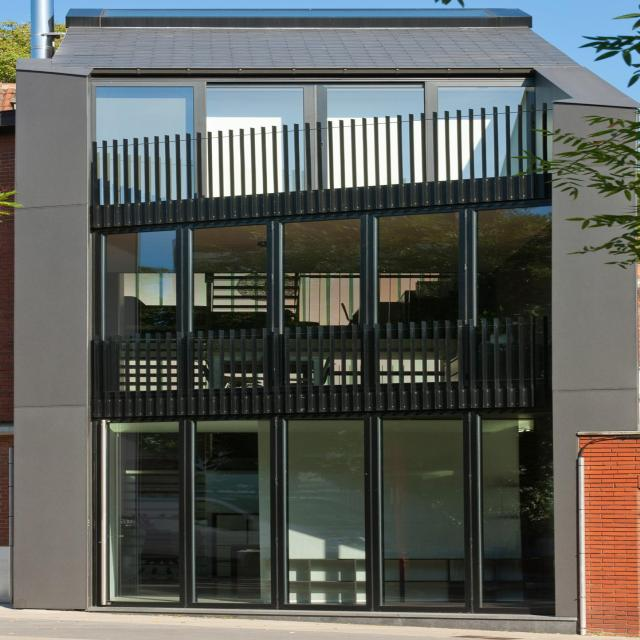door: (90, 411, 542, 613)
railing: (86, 308, 541, 416), (79, 106, 540, 212)
window: (85, 193, 542, 332), (82, 83, 526, 143)
